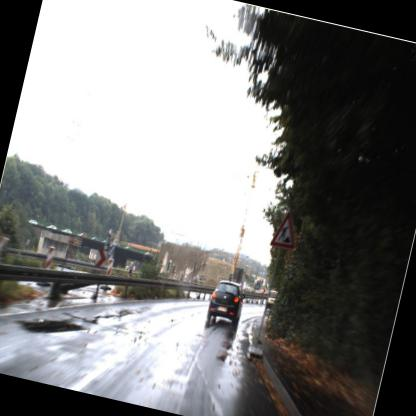danger: (262, 206, 306, 257)
